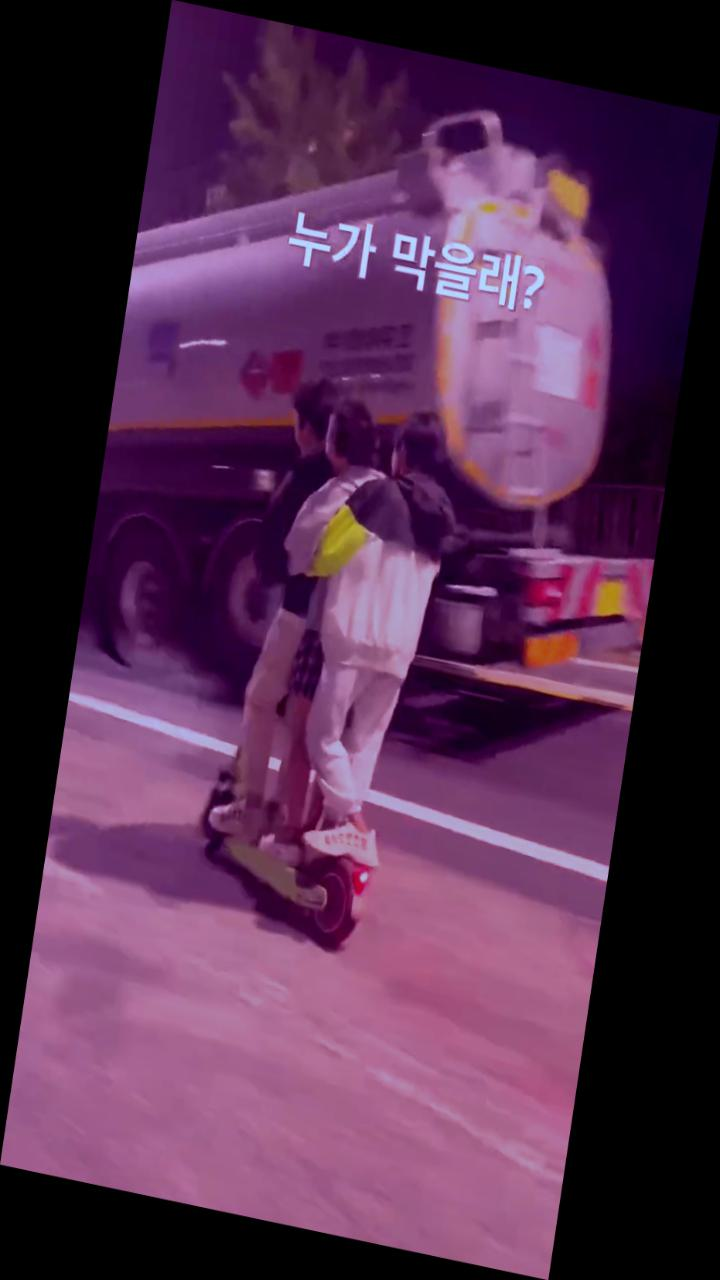multiple: (175, 354, 482, 964)
